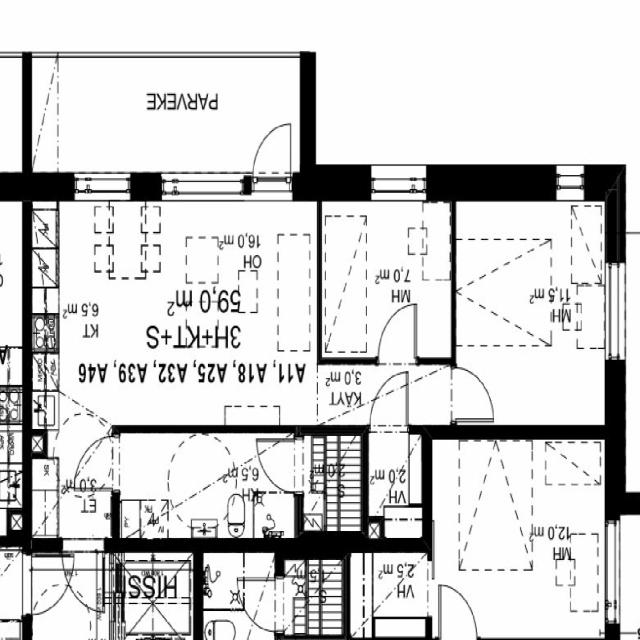door: (50, 190, 317, 430), (201, 551, 284, 638), (23, 554, 99, 618), (373, 298, 422, 370), (434, 576, 483, 640), (249, 118, 294, 186), (448, 362, 496, 423), (63, 547, 105, 614), (366, 378, 413, 435), (76, 431, 118, 494), (0, 540, 21, 580)
window: (600, 257, 629, 372), (600, 512, 626, 628), (157, 166, 247, 199), (364, 160, 431, 202), (66, 167, 137, 201), (548, 157, 590, 200), (615, 620, 640, 640)
zone: (455, 195, 610, 432), (429, 436, 609, 640), (317, 198, 453, 365), (115, 432, 313, 538), (299, 428, 368, 537), (200, 551, 283, 637), (352, 548, 432, 636), (116, 550, 196, 638), (368, 431, 424, 537), (77, 427, 117, 492)
